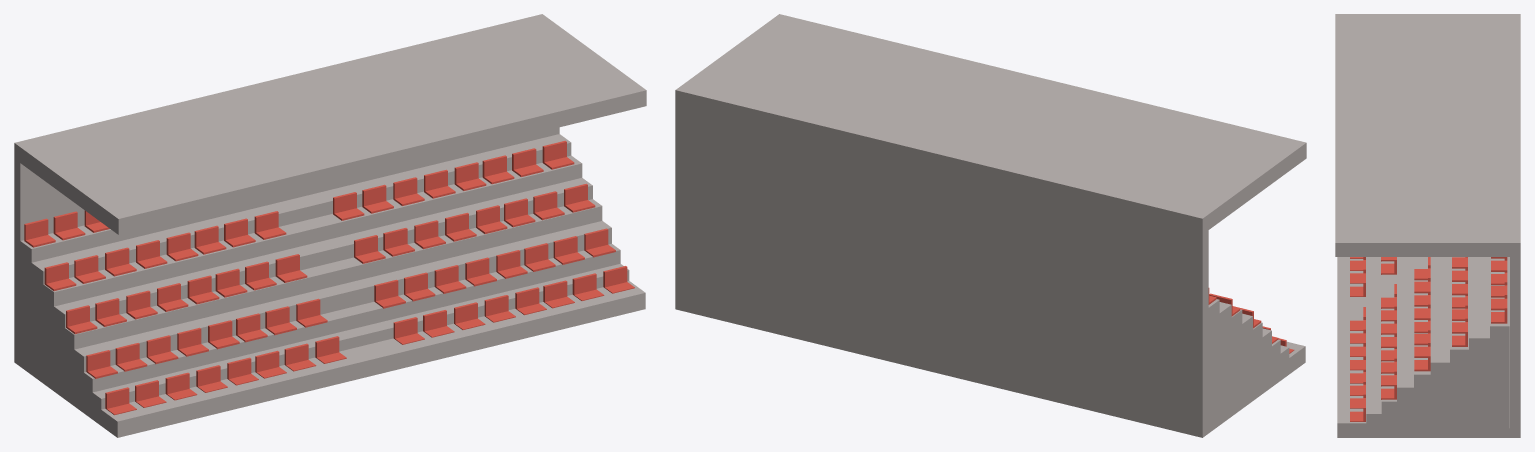
The model's file is tribu koop.fbx.
3 renders of one model, left to right at view 1: azimuth 30°, elevation 25°; view 2: azimuth 150°, elevation 25°; view 3: azimuth 270°, elevation 25°, orthographic. The views are drawn at different scales.
Parts seen in each view (by area): view 1: Cube.001, Chair.001, Chair.064, Chair.068, Chair.003, Chair.034, Chair.042, Chair.063, Chair.070, Chair.038, Chair.048, Chair.074 (+55 smaller); view 2: Cube.001; view 3: Cube.001, Chair.016, Chair.078, Chair.015, Chair.048, Chair.108, Chair.071, Chair.010, Chair.014, Chair.130, Chair.138, Chair.047 (+23 smaller).
Part boxes in pixels (<box>): Cube.001: <box>14,14,646,437</box>; Chair.001: <box>53,211,85,240</box>; Chair.064: <box>215,268,247,297</box>; Chair.068: <box>187,275,219,304</box>; Chair.003: <box>24,218,55,247</box>; Chair.034: <box>194,225,226,254</box>; Chair.042: <box>482,155,514,184</box>; Chair.063: <box>95,298,126,326</box>; Chair.070: <box>275,254,307,282</box>; Chair.038: <box>166,232,198,261</box>; Chair.048: <box>542,140,574,169</box>; Chair.074: <box>414,220,445,249</box>; Cube.001: <box>675,14,1306,437</box>; Cube.001: <box>1335,14,1520,437</box>; Chair.016: <box>1491,298,1507,323</box>; Chair.078: <box>1414,346,1430,371</box>; Chair.015: <box>1491,285,1507,310</box>; Chair.048: <box>1452,322,1467,346</box>; Chair.108: <box>1381,375,1396,399</box>; Chair.071: <box>1414,268,1430,293</box>; Chair.010: <box>1491,272,1507,297</box>; Chair.014: <box>1491,260,1507,285</box>; Chair.130: <box>1350,273,1365,296</box>; Chair.138: <box>1350,398,1365,421</box>; Chair.047: <box>1452,308,1467,333</box>.
Size of the model in its own units: 10164 by 4039 by 3472.
